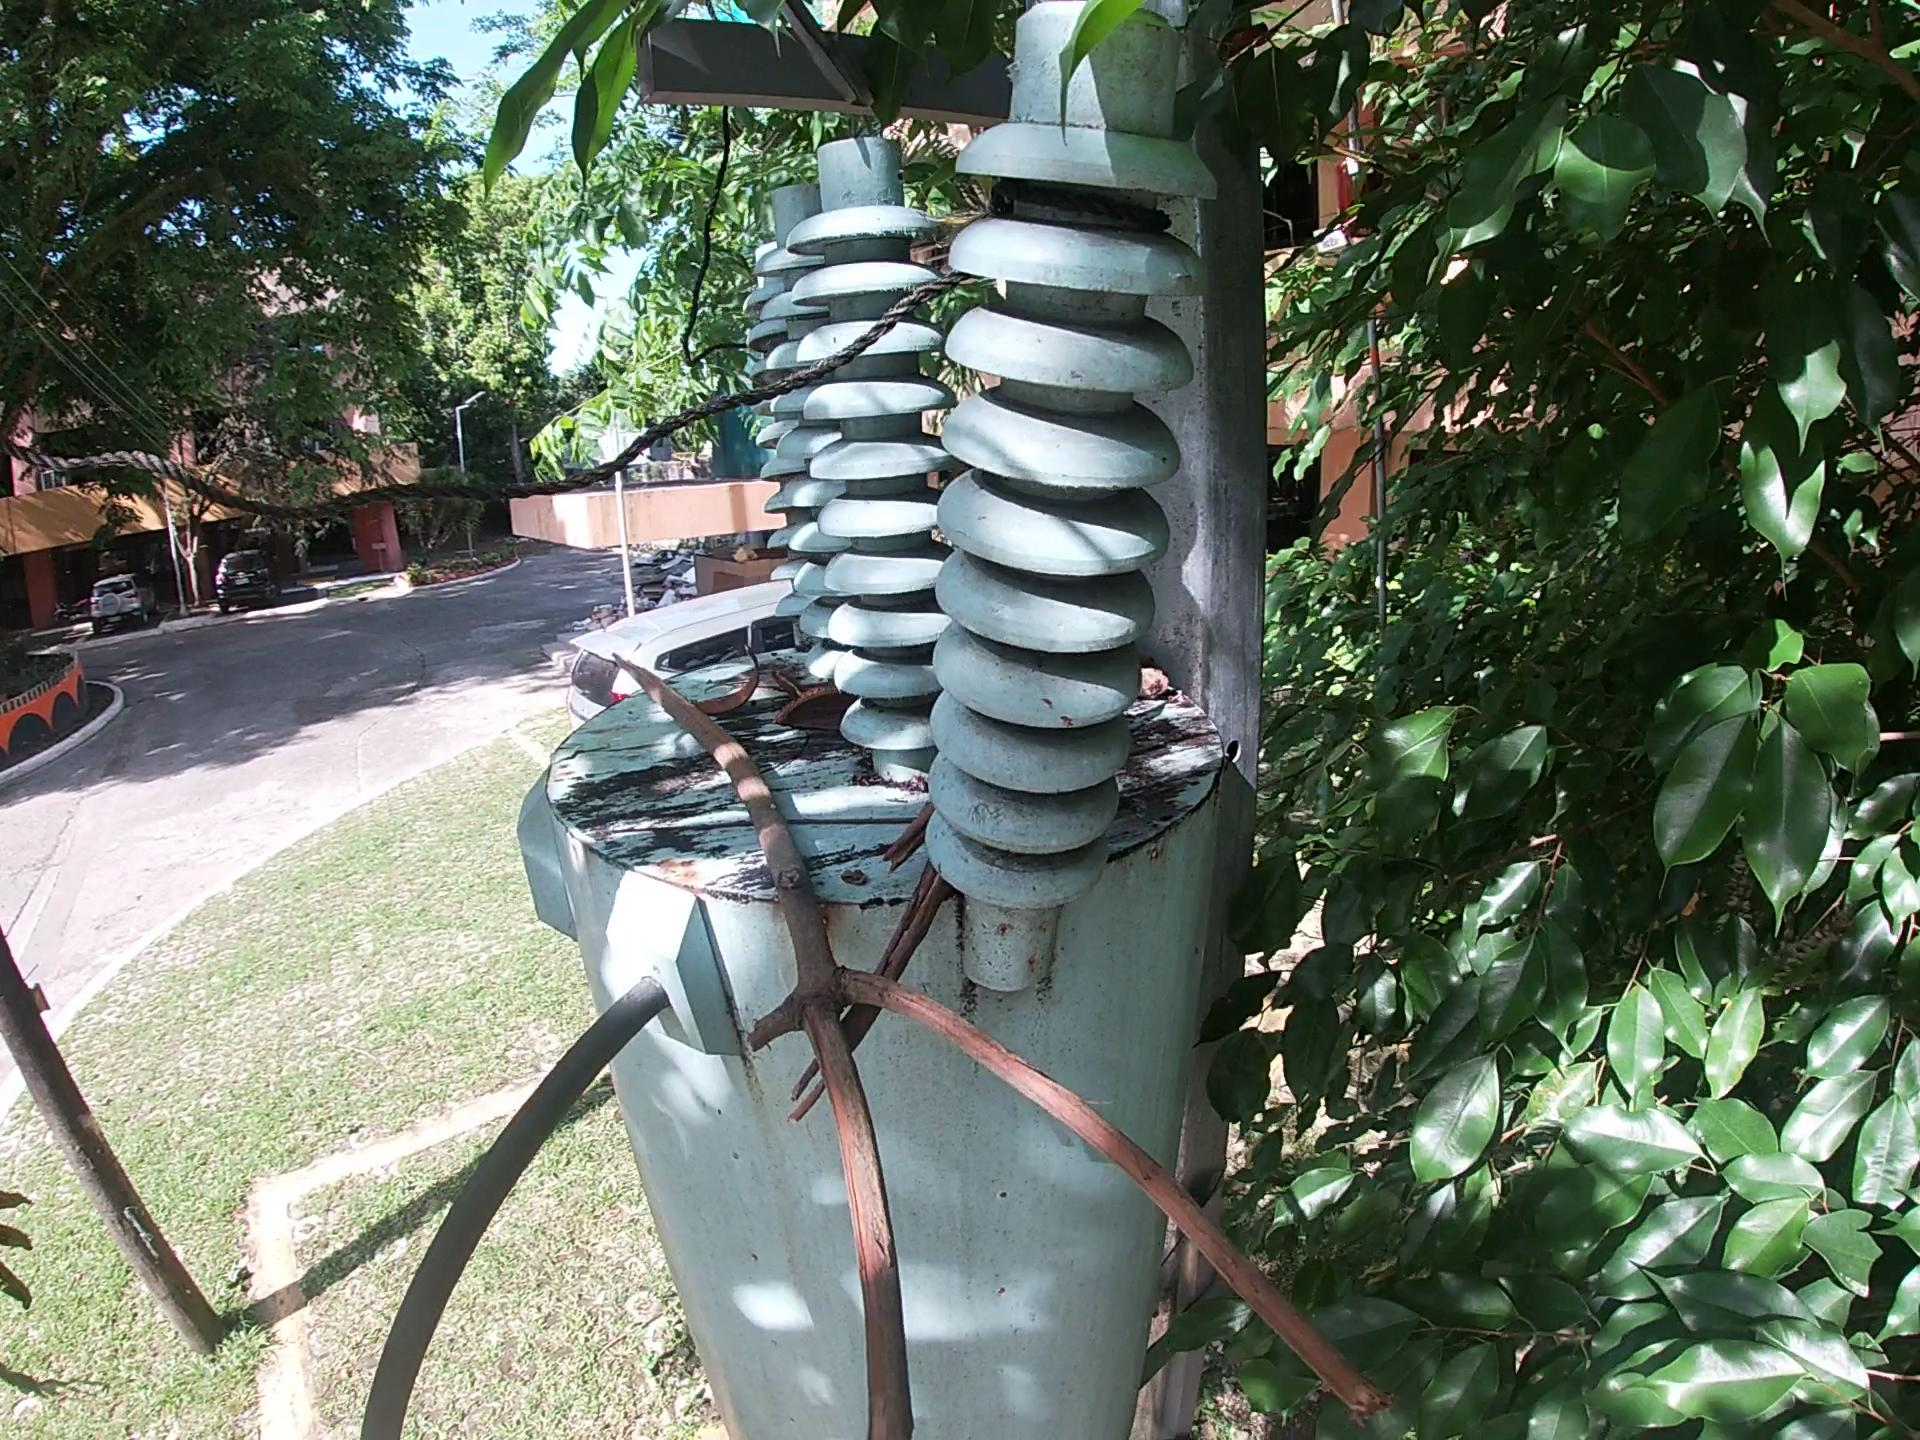mahogany fruit: (689, 643, 763, 718), (765, 681, 862, 737)
tree branch: (599, 646, 1400, 1435), (779, 796, 949, 1128)
